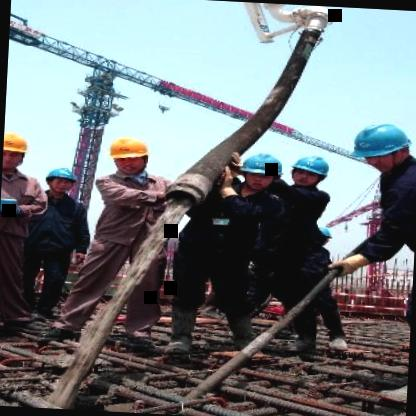helmet: (345, 118, 416, 176), (104, 134, 152, 176), (237, 150, 282, 194), (289, 152, 332, 188), (42, 160, 79, 199), (2, 131, 30, 177)
